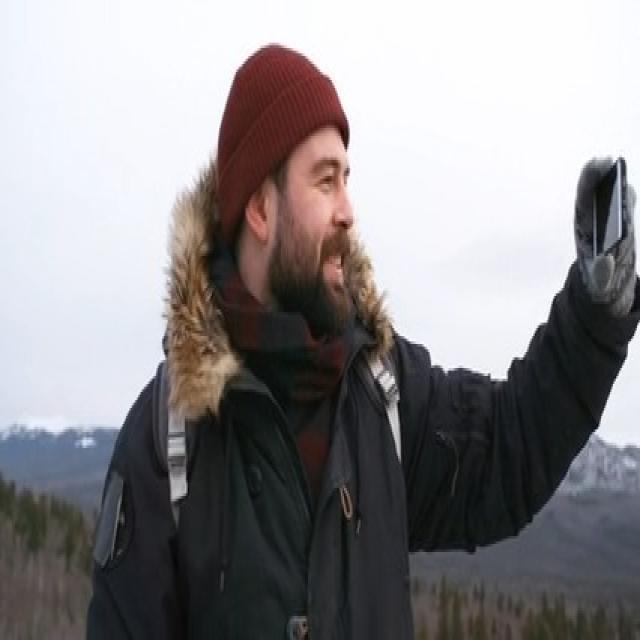Jacket_Wearer: (80, 256, 638, 640)
Person: (74, 42, 640, 640)
